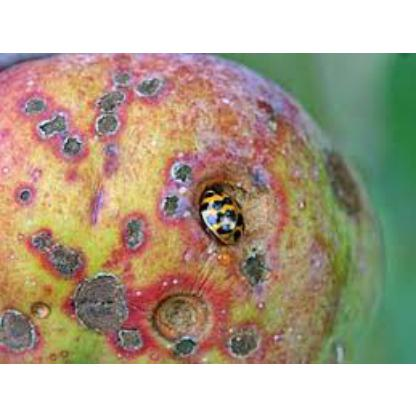apple: (1, 61, 381, 346)
